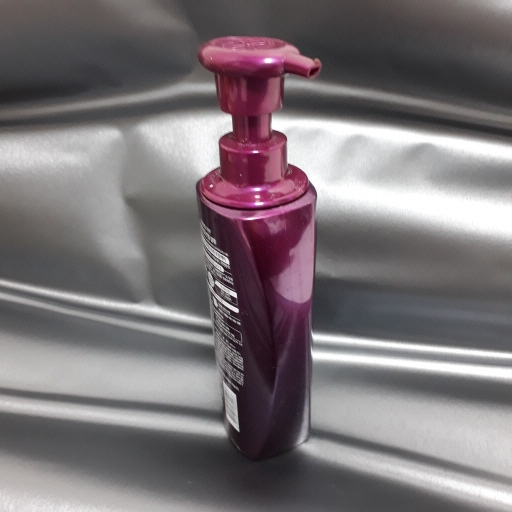Plastic_3: (191, 35, 324, 463)
